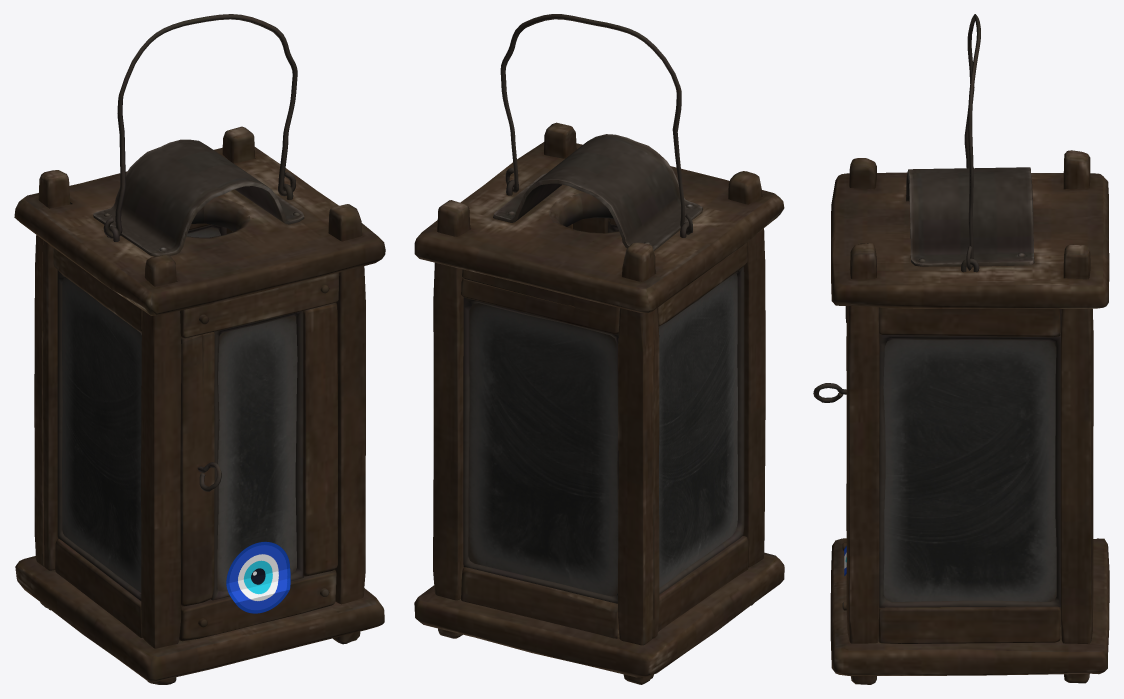
Rendered from nyb_kl_lantern.glb.
The picture shows the model from 3 angles, left to right: view 1: azimuth 30°, elevation 25°; view 2: azimuth 150°, elevation 25°; view 3: azimuth 270°, elevation 25°; orthographic projection.
Visible parts, largest first — view 1: wooden_lantern_01, stk_nazar.png; view 2: wooden_lantern_01; view 3: wooden_lantern_01.
Boxes of the visible parts, x1,y1,x2,y2 form: wooden_lantern_01: (14,14,385,684); stk_nazar.png: (226,541,290,613); wooden_lantern_01: (414,14,784,684); wooden_lantern_01: (813,14,1109,684).
Bounding box in the file's own units: 0.221 × 0.5301 × 0.2347.
3 materials, 3 textured.
